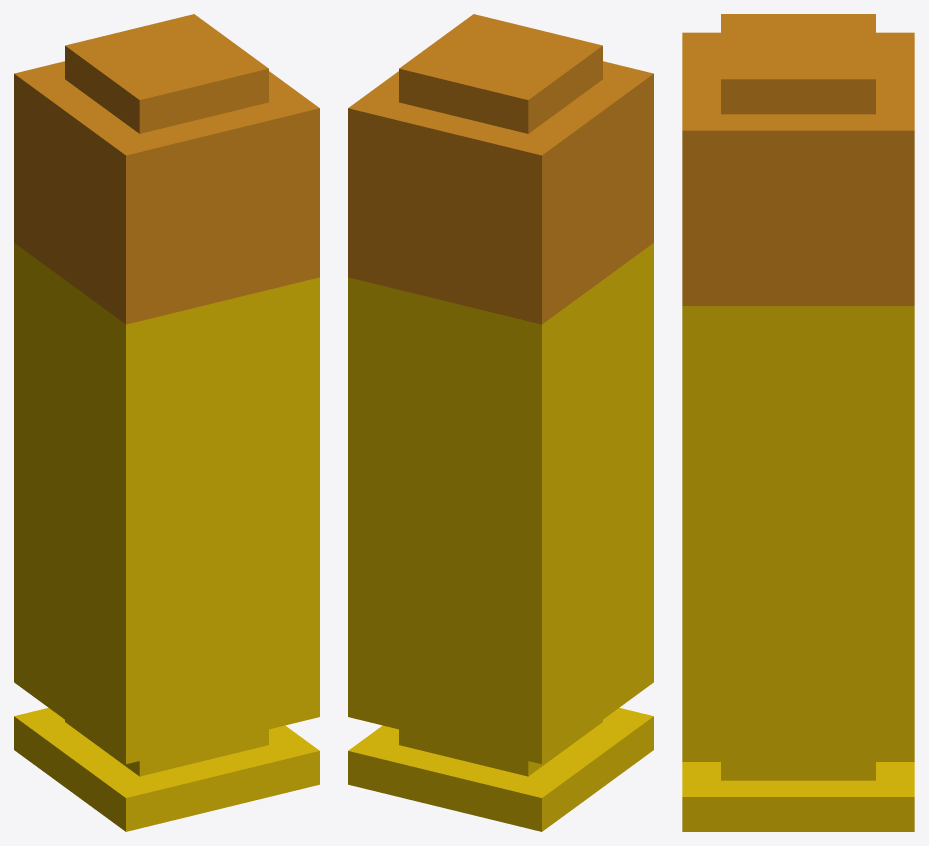
The model's file is police_pistol_bullet.fbx.
3 renders of one model, left to right at view 1: azimuth 30°, elevation 25°; view 2: azimuth 150°, elevation 25°; view 3: azimuth 270°, elevation 25°, orthographic. The views are drawn at different scales.
Visible parts, largest first — view 1: police_pistol_capsule, police_pistol_bullet; view 2: police_pistol_capsule, police_pistol_bullet; view 3: police_pistol_capsule, police_pistol_bullet.
Boxes of the visible parts, box(x1,y1,x2,y2) form: police_pistol_capsule: box(14, 243, 319, 831); police_pistol_bullet: box(14, 14, 319, 324); police_pistol_capsule: box(348, 243, 653, 831); police_pistol_bullet: box(348, 14, 653, 324); police_pistol_capsule: box(682, 306, 914, 831); police_pistol_bullet: box(682, 14, 914, 305).
Size of the model in its own units: 1.8 by 6.3 by 1.8.
